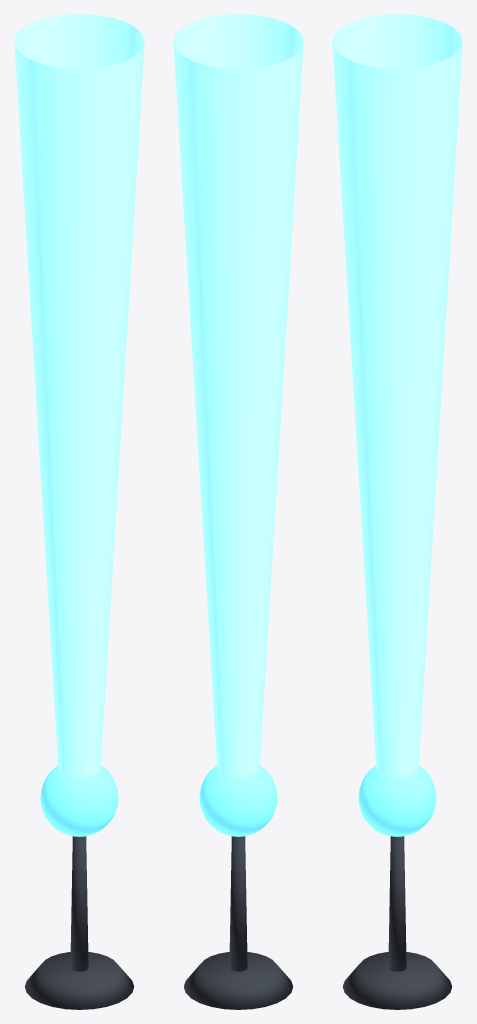
The model's file is guide_light.glb.
3 views of the same model, side by side, from view 1: azimuth 90°, elevation 25°; view 2: azimuth 150°, elevation 25°; view 3: azimuth 270°, elevation 25° (orthographic).
Visible parts, largest first — view 1: GuideBeam, GuideLight, GuideOrb, GuidePost; view 2: GuideBeam, GuideLight, GuideOrb, GuidePost; view 3: GuideBeam, GuideLight, GuideOrb, GuidePost.
Part boxes in pixels (x1=…): GuideBeam: x1=14, y1=14, x2=144, y2=777; GuideLight: x1=25, y1=952, x2=133, y2=1009; GuideOrb: x1=40, y1=765, x2=118, y2=836; GuidePost: x1=70, y1=836, x2=88, y2=971; GuideBeam: x1=173, y1=14, x2=303, y2=777; GuideLight: x1=184, y1=952, x2=292, y2=1009; GuideOrb: x1=199, y1=765, x2=277, y2=836; GuidePost: x1=229, y1=836, x2=247, y2=971; GuideBeam: x1=332, y1=14, x2=462, y2=777; GuideLight: x1=343, y1=952, x2=451, y2=1009; GuideOrb: x1=358, y1=765, x2=436, y2=836; GuidePost: x1=388, y1=836, x2=406, y2=971.
Size of the model in its own units: 1 by 8 by 1.
